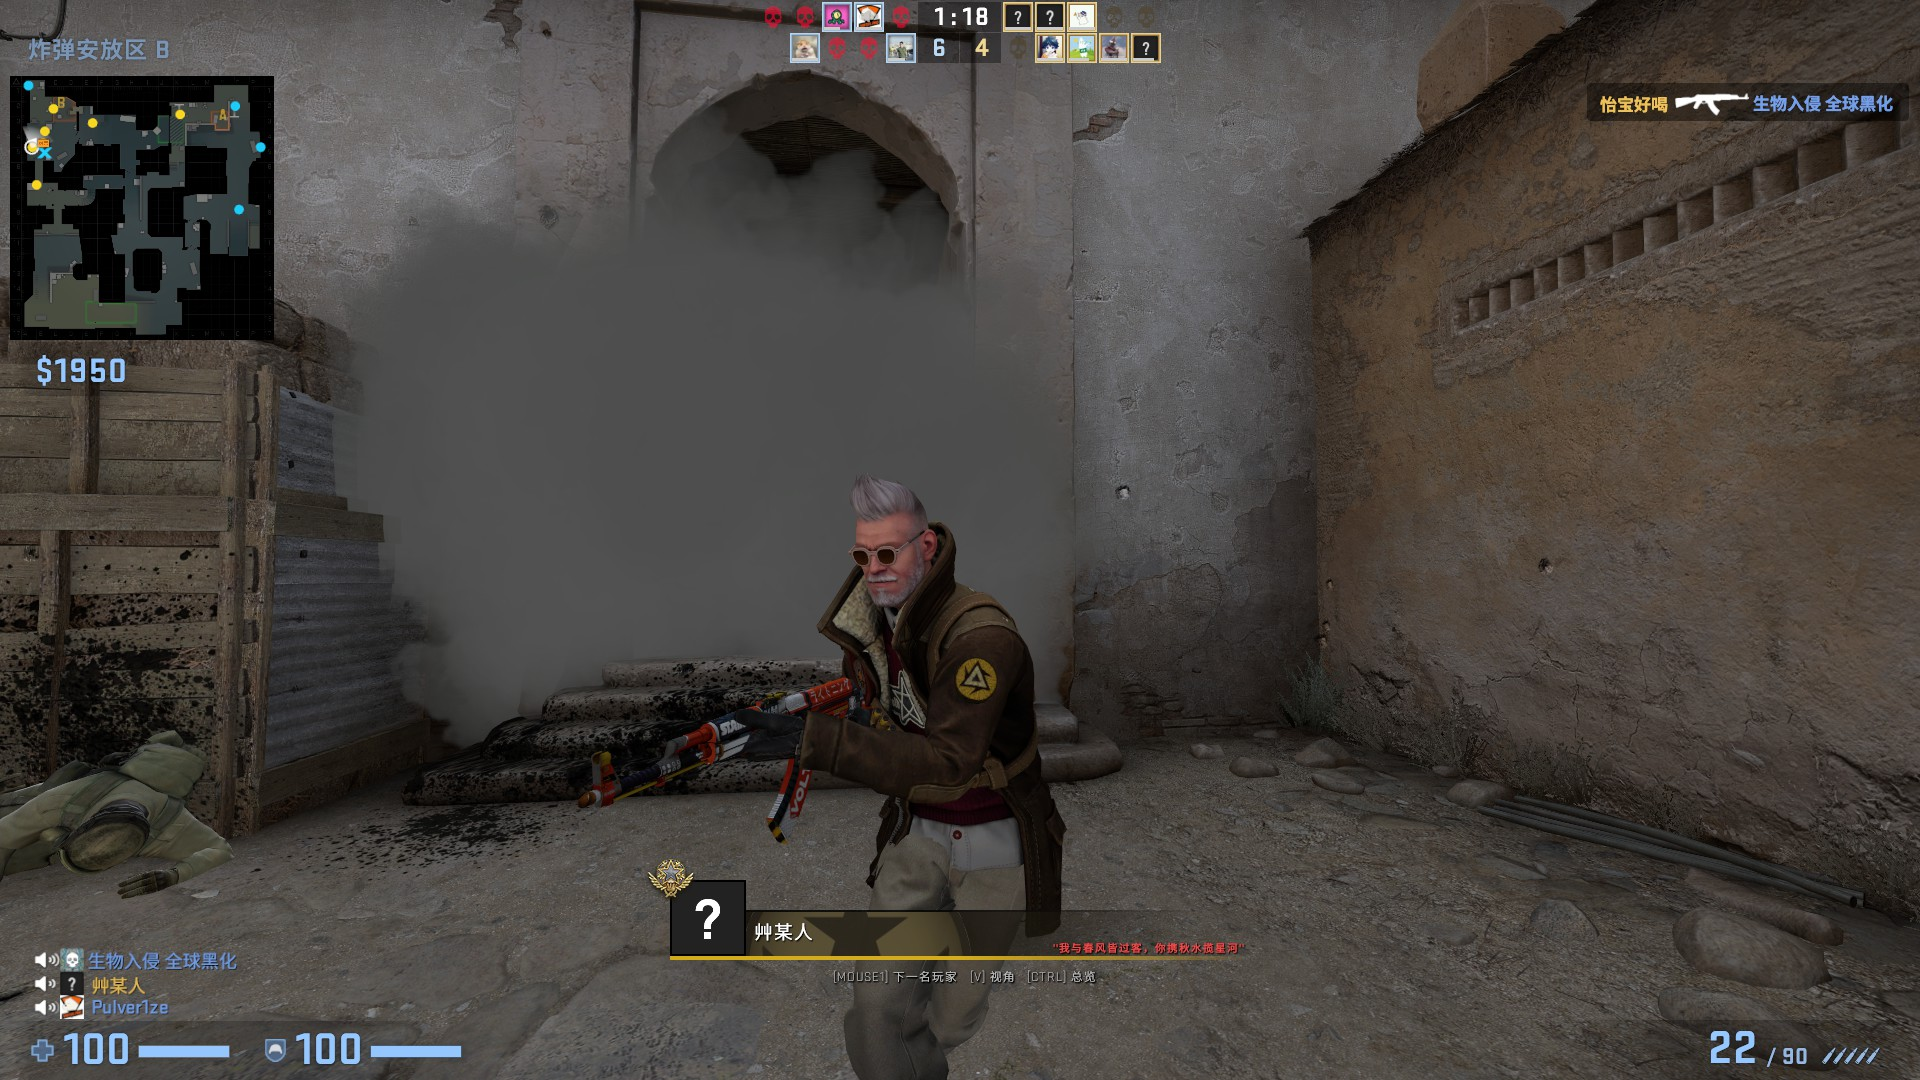head: (836, 478, 946, 613), (63, 815, 151, 877)
